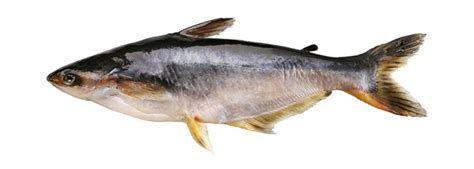Pangasius: (45, 13, 430, 154)
